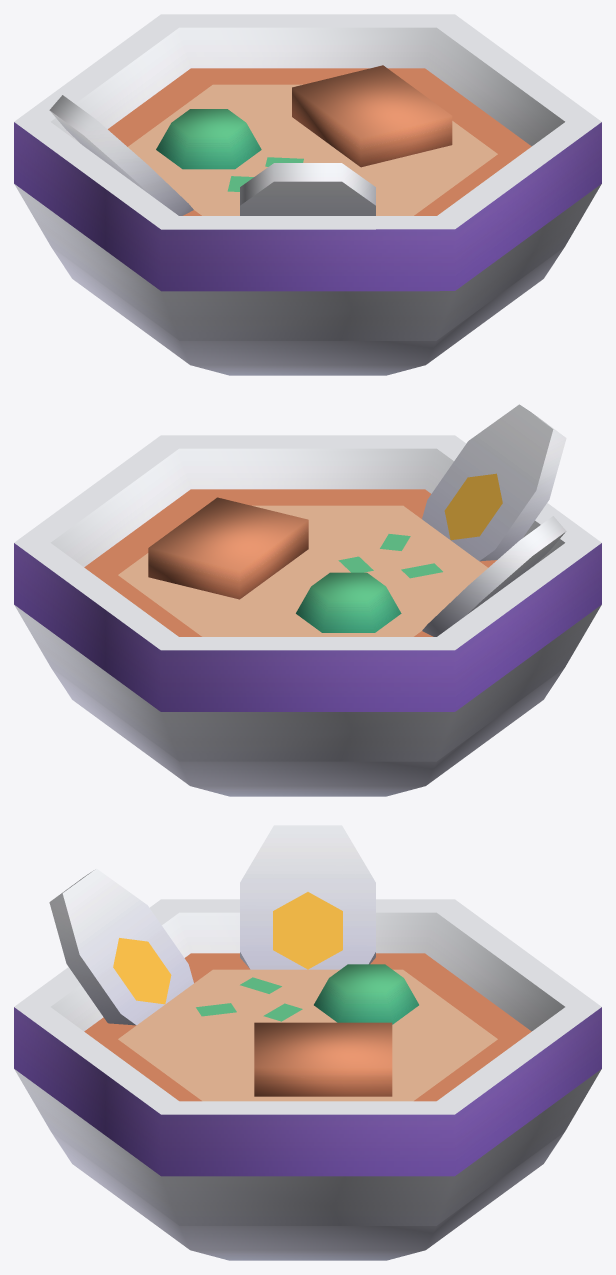
Rendered from bowl-broth.glb.
3 views of the same model, one above another, from view 1: azimuth 30°, elevation 25°; view 2: azimuth 150°, elevation 25°; view 3: azimuth 270°, elevation 25° (orthographic).
Parts seen in each view (by area): view 1: bowl-broth, Group; view 2: bowl-broth, Group; view 3: bowl-broth, Group.
Boxes of the visible parts, left/top/right/bottom form: bowl-broth: left=14, top=14, right=601, bottom=375; Group: left=156, top=109, right=261, bottom=169; bowl-broth: left=14, top=404, right=601, bottom=796; Group: left=296, top=572, right=401, bottom=632; bowl-broth: left=14, top=825, right=601, bottom=1260; Group: left=314, top=964, right=418, bottom=1024.
Size of the model in its own units: 0.5262 by 0.2903 by 0.5798.
Materials: 1 (1 with a texture image).
